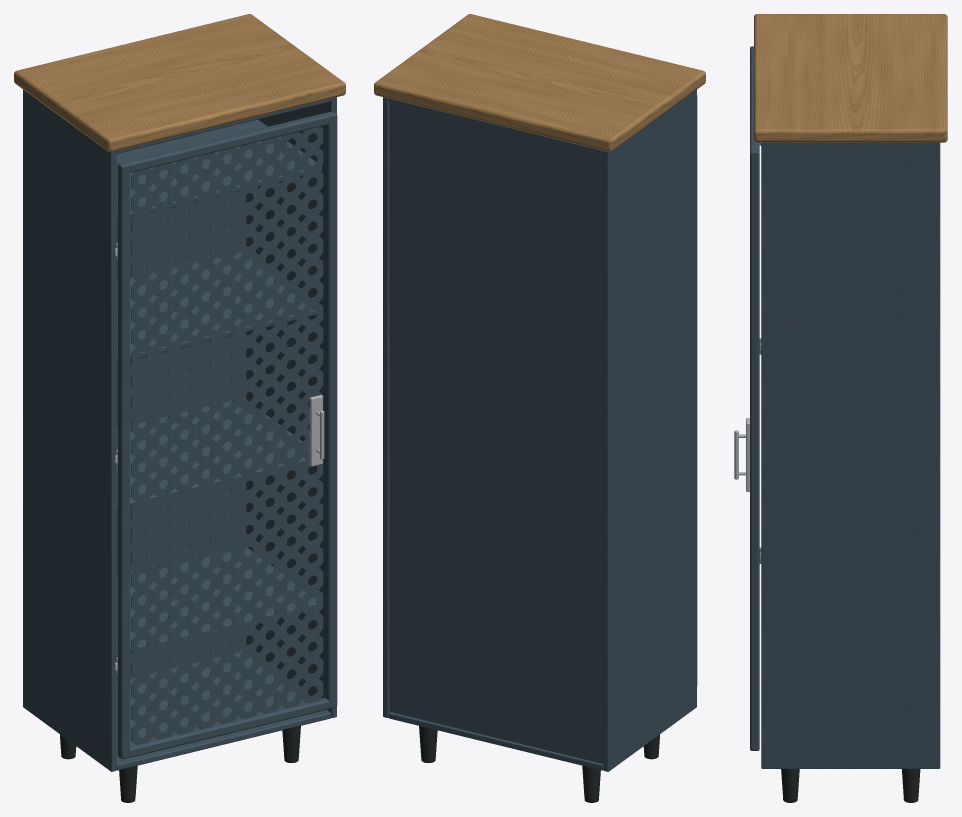
File: vent-perforated-locker.glb
The picture shows the model from 3 angles, left to right: view 1: azimuth 30°, elevation 25°; view 2: azimuth 150°, elevation 25°; view 3: azimuth 270°, elevation 25°; orthographic projection.
Parts seen in each view (by area): view 1: Locker door | punched round-hole sheet, Case | side, Locker | solid oak top cap, Case | side.001, Locker door | formed vertical edge, Locker door | formed vertical edge.001, Case | inset back, Case | horizontal panel, Locker | internal steel shelf.003, Locker | internal steel shelf.002, Locker | internal steel shelf, Locker | internal steel shelf.001 (+4 smaller); view 2: Case | inset back, Case | side, Locker | solid oak top cap, Case | side.001, Case | horizontal panel, Case | horizontal panel.001, Locker door | formed vertical edge; view 3: Case | side.001, Locker | solid oak top cap, Locker door | formed vertical edge.001, Leg | tapered furniture foot.002, Leg | tapered furniture foot.003, Locker door | formed horizontal edge.001.
Boxes of the visible parts, <box> form: Locker door | punched round-hole sheet: <box>131,126,323,745</box>; Case | side: <box>23,89,116,771</box>; Locker | solid oak top cap: <box>14,14,345,152</box>; Case | side.001: <box>246,97,336,717</box>; Locker door | formed vertical edge: <box>117,162,129,759</box>; Locker door | formed vertical edge.001: <box>325,111,337,708</box>; Case | inset back: <box>116,191,246,681</box>; Case | horizontal panel: <box>116,651,331,770</box>; Locker | internal steel shelf.003: <box>116,119,321,221</box>; Locker | internal steel shelf.002: <box>116,252,316,363</box>; Locker | internal steel shelf: <box>116,545,316,656</box>; Locker | internal steel shelf.001: <box>116,399,309,510</box>; Case | inset back: <box>389,102,603,763</box>; Case | side: <box>603,89,696,771</box>; Locker | solid oak top cap: <box>374,14,705,152</box>; Case | side.001: <box>383,97,389,717</box>; Case | horizontal panel: <box>388,712,603,770</box>; Case | horizontal panel.001: <box>388,98,603,153</box>; Locker door | formed vertical edge: <box>697,95,697,685</box>; Case | side.001: <box>761,142,940,768</box>; Locker | solid oak top cap: <box>754,14,947,142</box>; Locker door | formed vertical edge.001: <box>750,148,759,750</box>; Leg | tapered furniture foot.002: <box>781,769,799,800</box>; Leg | tapered furniture foot.003: <box>901,769,920,800</box>; Locker door | formed horizontal edge.001: <box>750,50,759,149</box>.
Size of the model in its own units: 0.718 by 1.96 by 0.5515.
5 materials, 2 textured.
